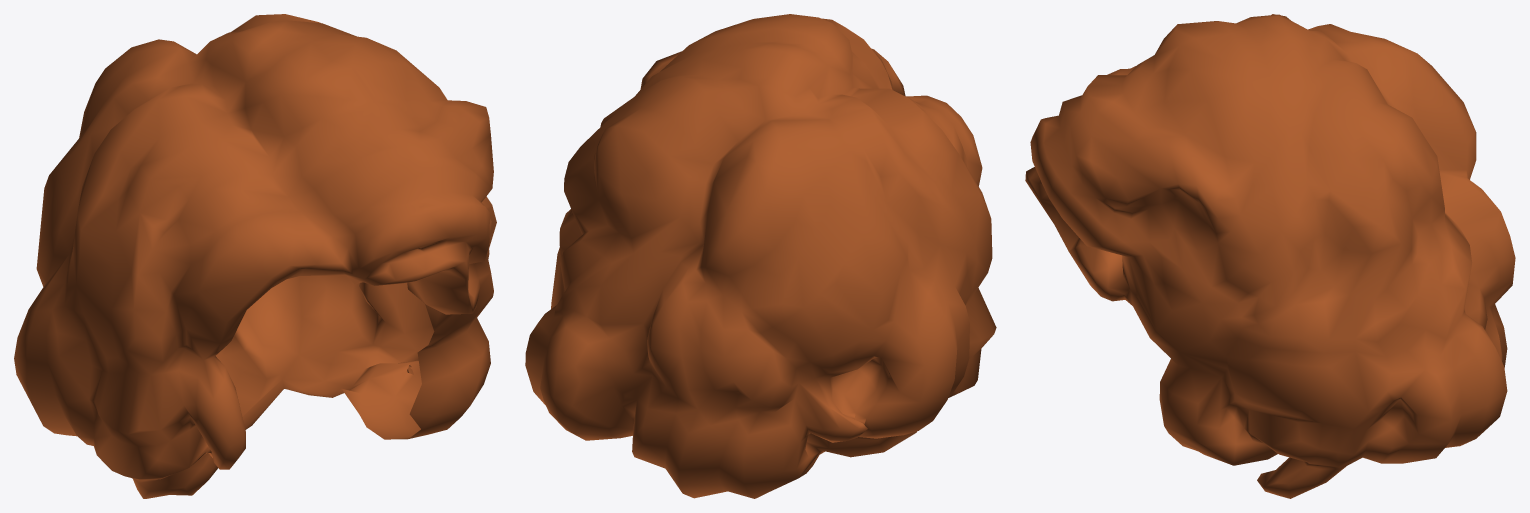
3 views of the same model, side by side, from view 1: azimuth 30°, elevation 25°; view 2: azimuth 150°, elevation 25°; view 3: azimuth 270°, elevation 25° (orthographic). The views are drawn at different scales.
Parts seen in each view (by area): view 1: Wolf3D_Hair.102; view 2: Wolf3D_Hair.102; view 3: Wolf3D_Hair.102.
Part boxes in pixels (x1,y1,x2,y2): Wolf3D_Hair.102: [14, 14, 496, 498]; Wolf3D_Hair.102: [525, 14, 996, 498]; Wolf3D_Hair.102: [1025, 14, 1515, 498].
Bounding box in the file's own units: 0.2582 × 0.2525 × 0.2661.
Materials: 1 (1 with a texture image).
